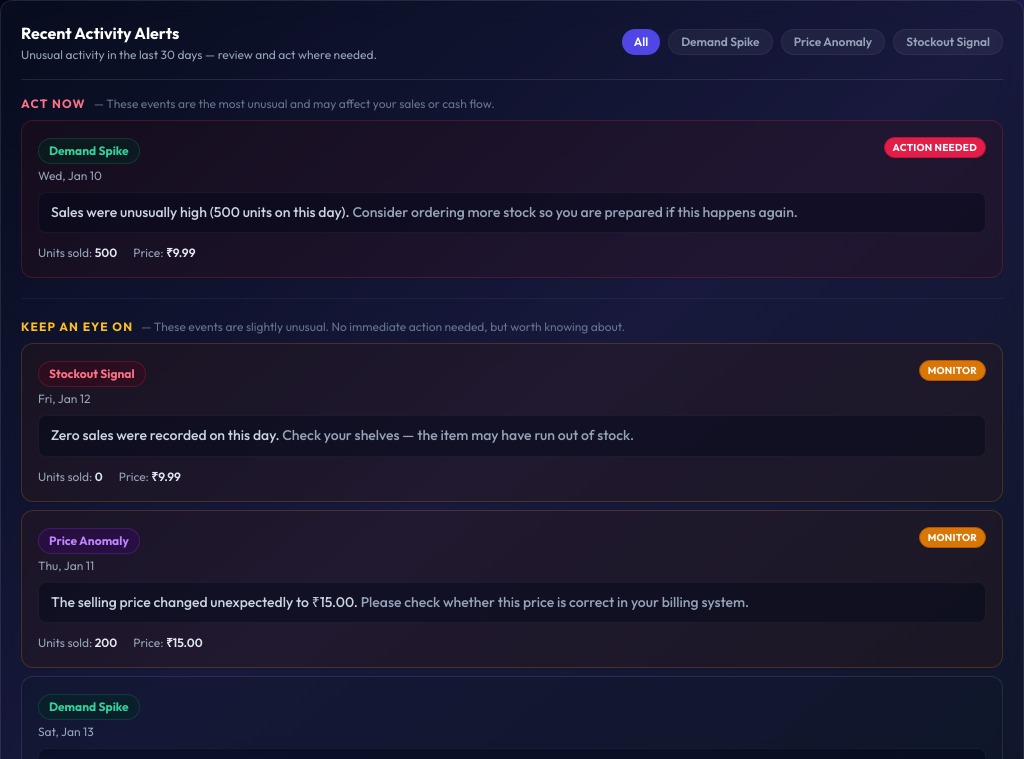
Test: AnomalyTable › filter chips › filters to only stockout_signal rows when "Stockout Signal" chip is clicked
What coordinates should you click on to do the following:
click the button "Stockout Signal"
I would click on:
 (948, 42)
Its box is [893, 29, 1003, 55].
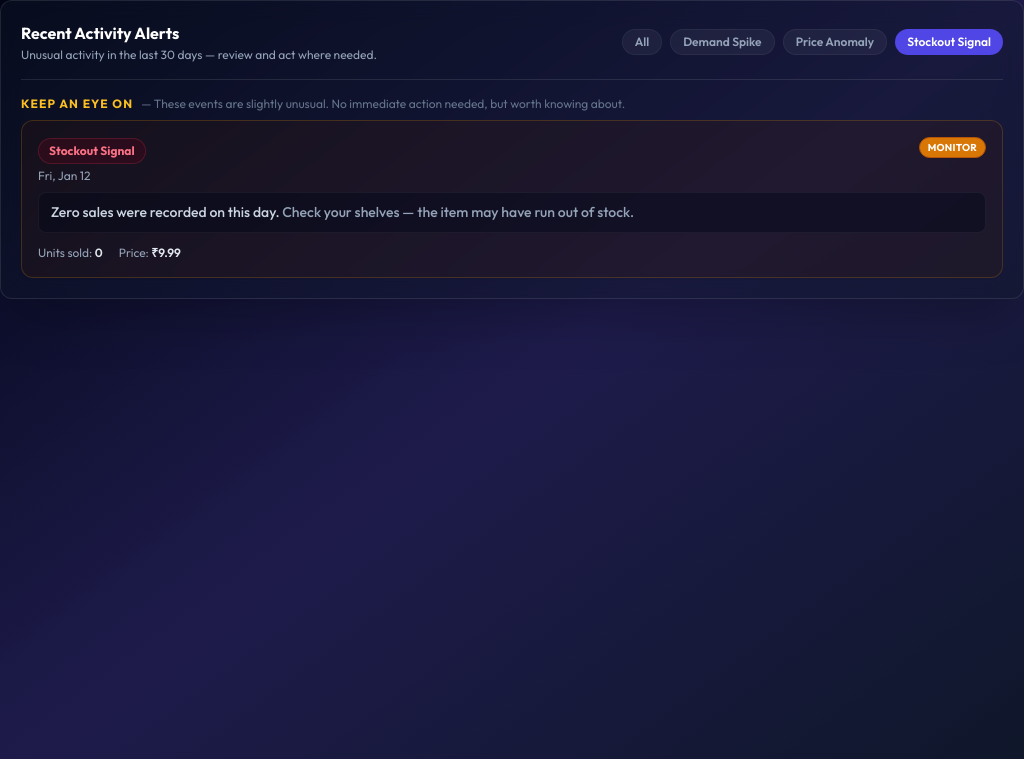
Expected: the element with test id "anomaly-card-2024-01-12" is shown, [21, 120, 1003, 278]
Now the element with test id "anomaly-card-2024-01-10" is gone
Now the element with test id "anomaly-card-2024-01-11" is gone
